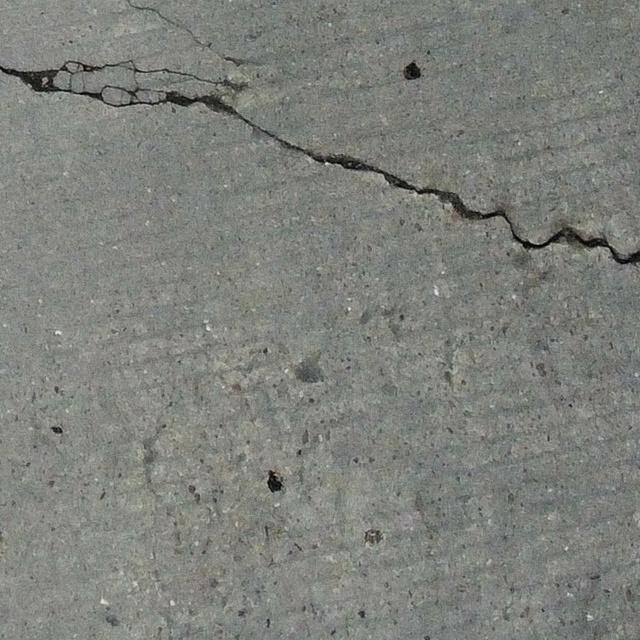TransverseCrack: (1, 58, 640, 265), (125, 1, 244, 65)
